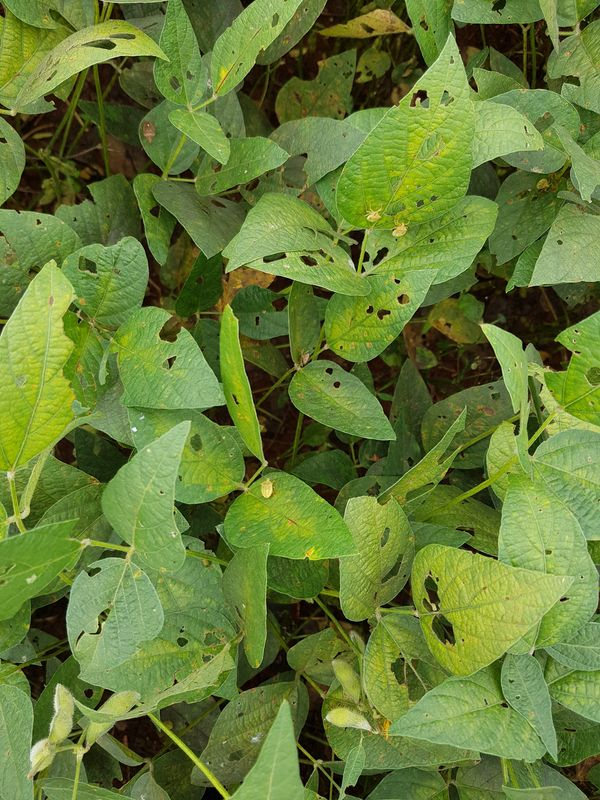Euschistus_heros_adulto: (296, 350, 314, 368)
Euschistus_heros_ninfa: (362, 201, 385, 226), (389, 217, 413, 240), (258, 477, 275, 501), (535, 176, 553, 195)
